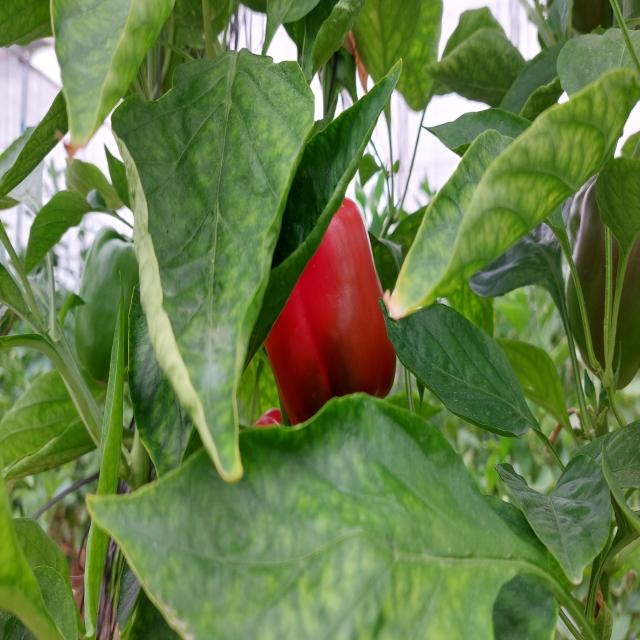Red-Ready-to-Harvest: (231, 150, 404, 430)
